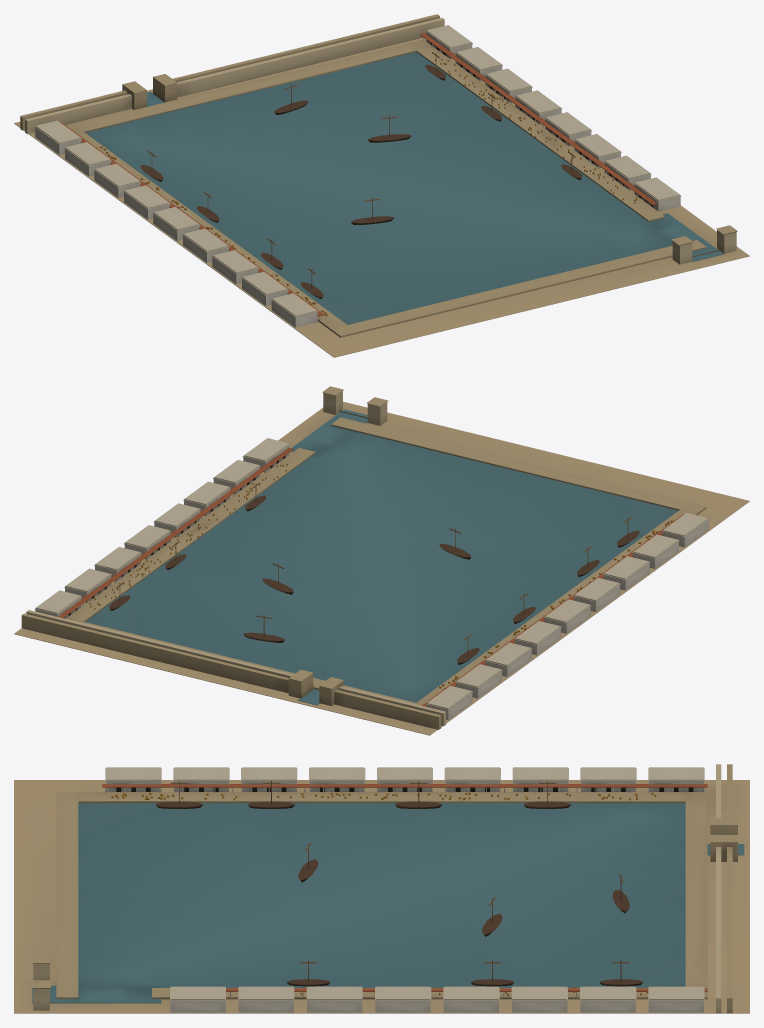
The model's file is commercial-harbour.glb.
3 views of the same model, one above another, from view 1: azimuth 30°, elevation 25°; view 2: azimuth 150°, elevation 25°; view 3: azimuth 270°, elevation 25° (orthographic). The views are drawn at different scales.
Parts seen in each view (by area): view 1: p0_basin, p2_ships, p1_stores; view 2: p0_basin, p2_ships, p1_stores; view 3: p0_basin, p2_ships, p1_stores.
Boxes of the visible parts, <box> form: p0_basin: <box>14,37,749,357</box>; p2_ships: <box>34,25,680,317</box>; p1_stores: <box>20,14,737,327</box>; p0_basin: <box>14,401,749,735</box>; p2_ships: <box>35,438,709,710</box>; p1_stores: <box>21,386,708,729</box>; p0_basin: <box>14,780,749,1013</box>; p2_ships: <box>102,767,707,1000</box>; p1_stores: <box>32,764,744,1013</box>.
Bounding box in the file's own units: 301 × 17.8 × 400.
